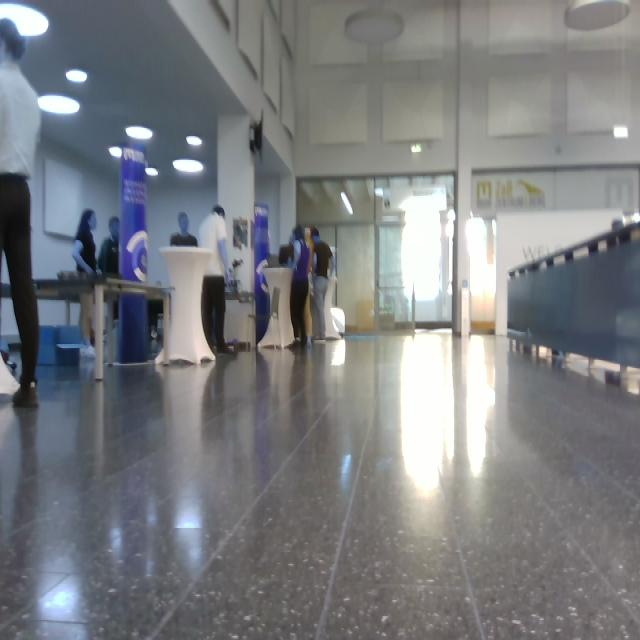door: (336, 224, 376, 333)
light bulb: (345, 7, 404, 47), (564, 1, 631, 32), (1, 3, 50, 39), (38, 94, 81, 116), (173, 158, 204, 173), (125, 125, 153, 140), (340, 192, 354, 216), (66, 69, 88, 84), (613, 125, 628, 140), (186, 135, 203, 147), (109, 147, 123, 159), (145, 166, 159, 177), (410, 142, 422, 153)
person: (1, 18, 42, 408), (199, 205, 236, 354), (72, 209, 100, 358), (288, 225, 312, 348), (309, 226, 334, 341), (98, 216, 121, 333), (170, 212, 198, 248)
pillar: (117, 142, 150, 365)
staircase: (506, 216, 639, 392)
tiled floor: (2, 328, 639, 638)
